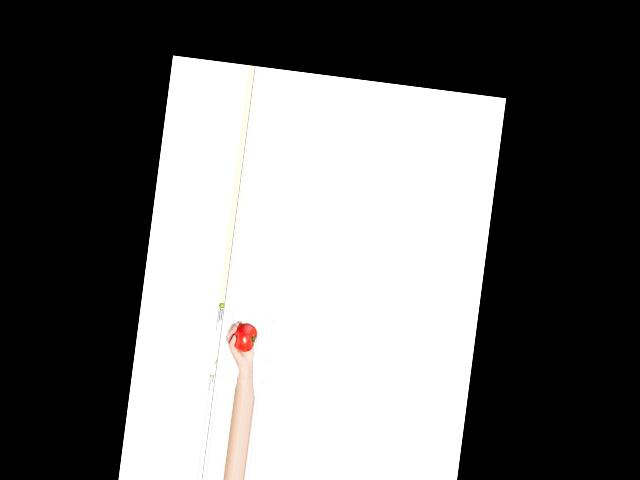tomato: (231, 322, 258, 354)
